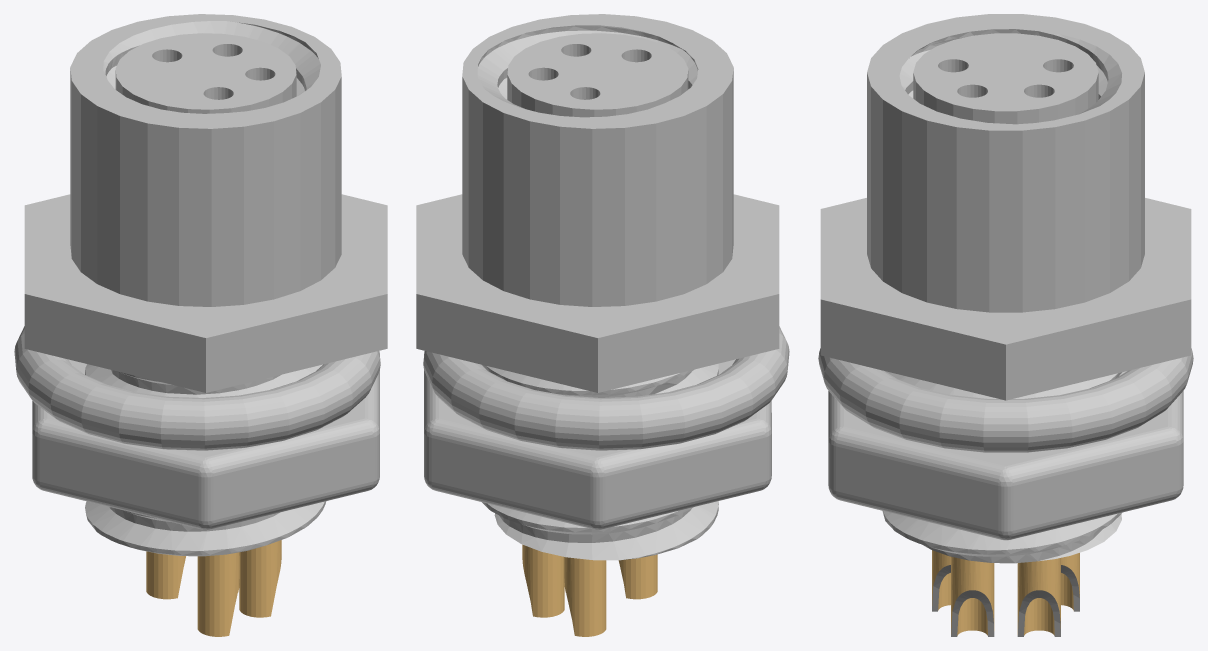
Rendered from connectorFemaleFlange.obj.
3 views of the same model, side by side, from view 1: azimuth 30°, elevation 25°; view 2: azimuth 150°, elevation 25°; view 3: azimuth 270°, elevation 25° (orthographic). The views are drawn at different scales.
Parts seen in each view (by area): view 1: connectorFemaleFlange; view 2: connectorFemaleFlange; view 3: connectorFemaleFlange.
Boxes of the visible parts, left/top/right/bottom form: connectorFemaleFlange: left=14, top=14, right=387, bottom=636; connectorFemaleFlange: left=416, top=14, right=789, bottom=636; connectorFemaleFlange: left=818, top=14, right=1193, bottom=636.
Bounding box in the file's own units: 0.0186 × 0.0262 × 0.0163.
